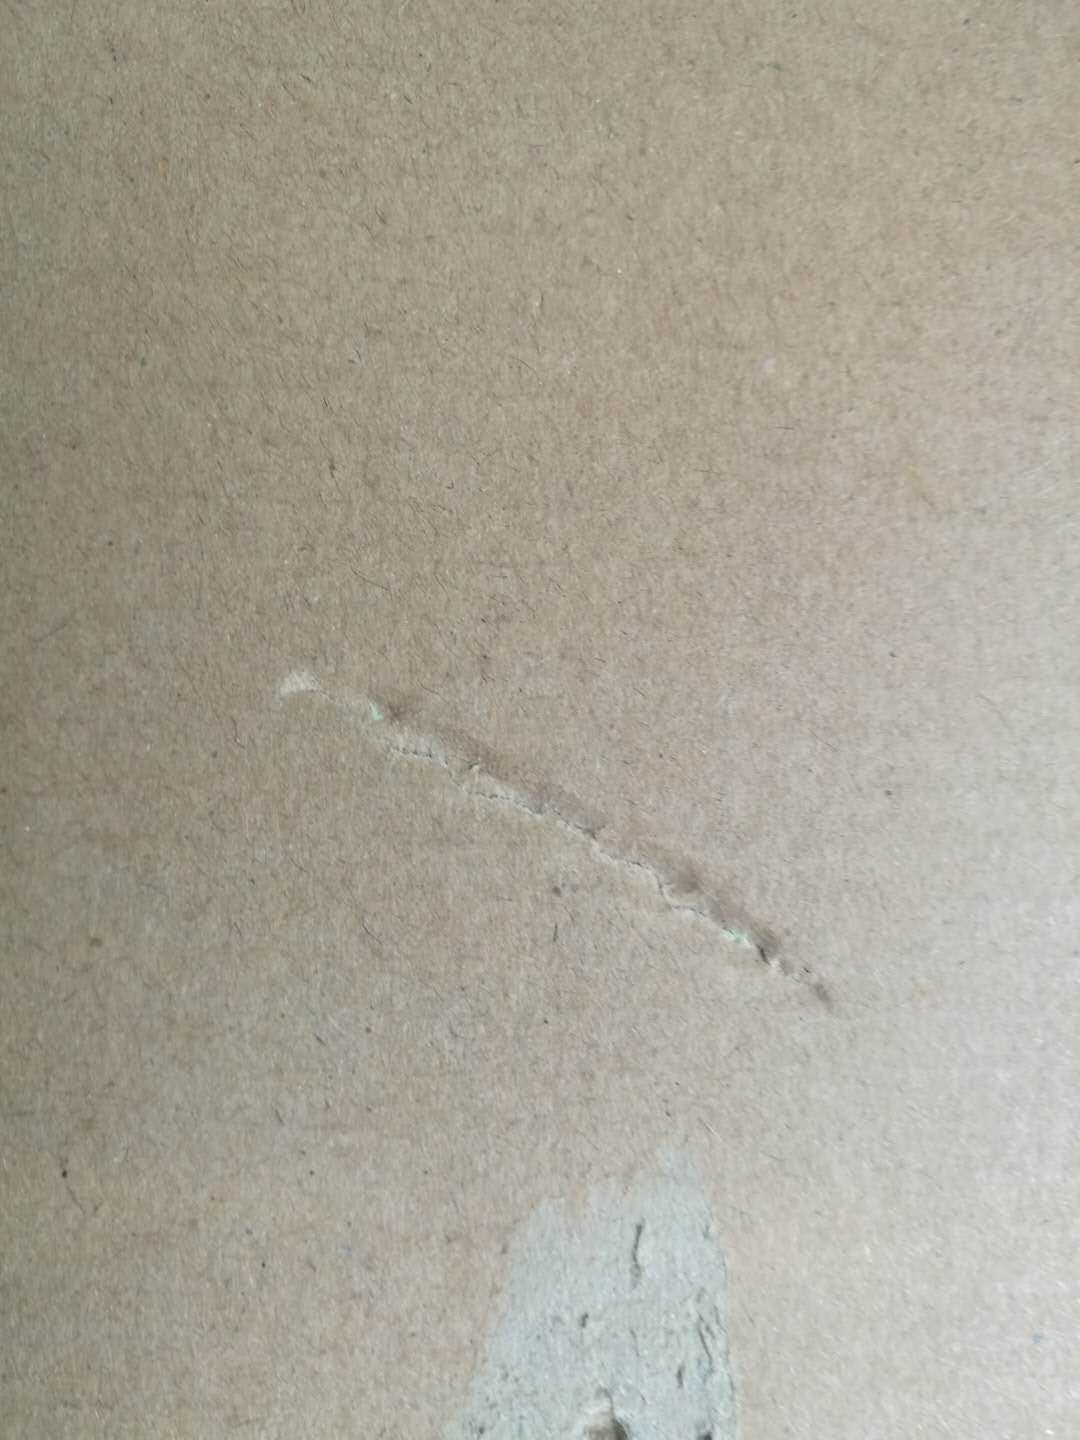defect: (245, 615, 864, 1050), (397, 1110, 788, 1440)
